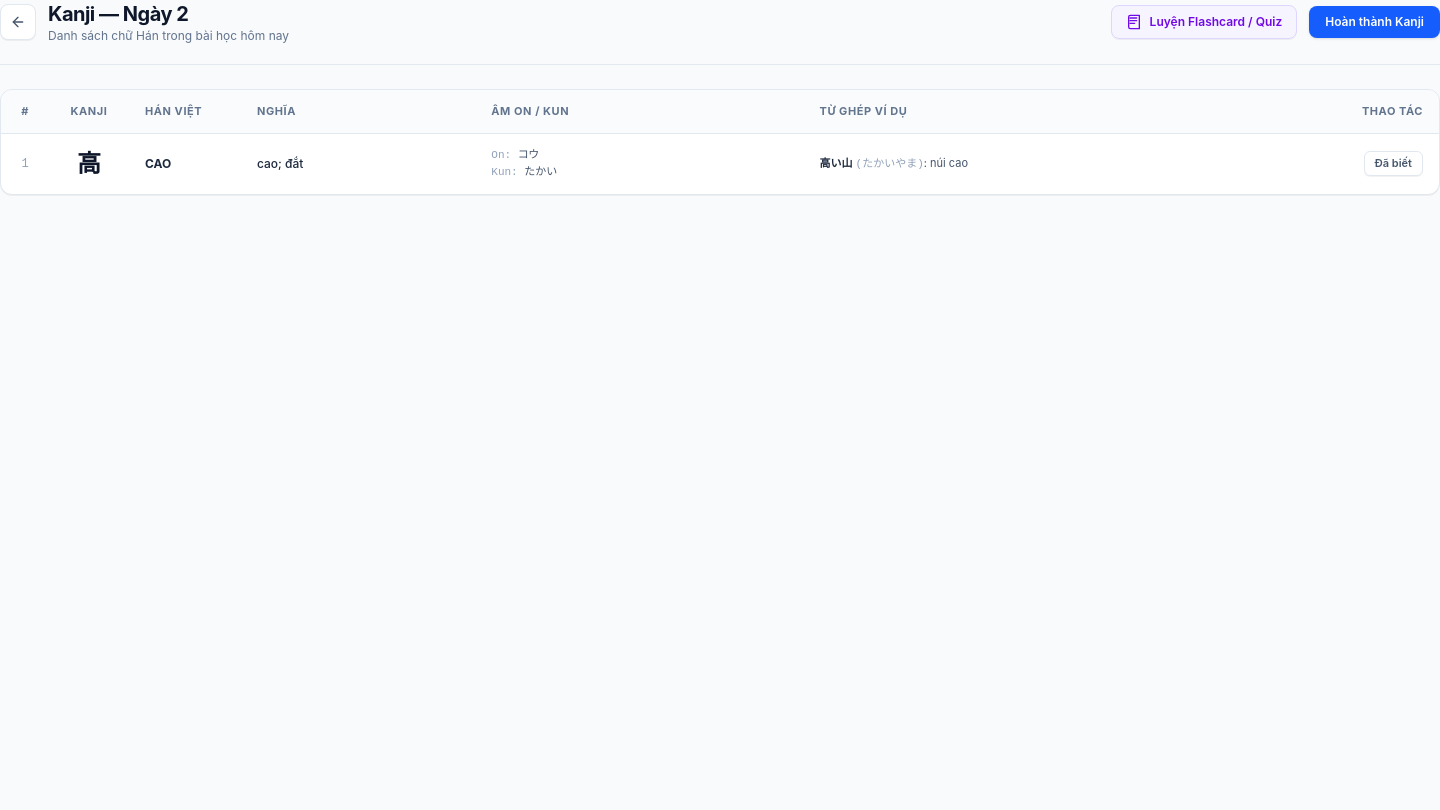
Scenario: Milestone F6 — Kanji Real Interaction Tests › shows the empty state when the final active Kanji is marked known
Click the button "Đã biết" at (1393, 164), box [1364,151,1423,176]
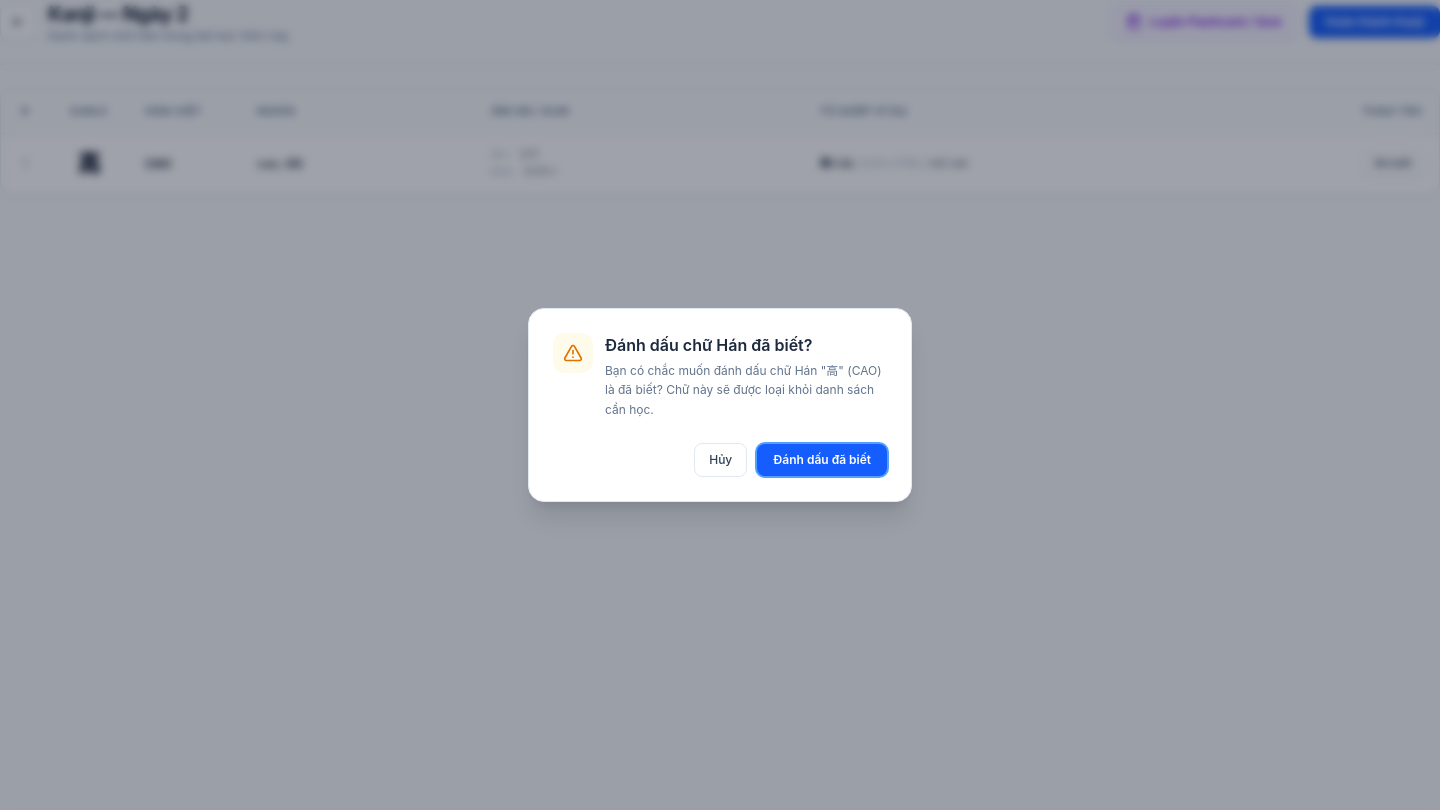
Click the button "Đánh dấu đã biết" at (822, 460), box [757,444,887,476]
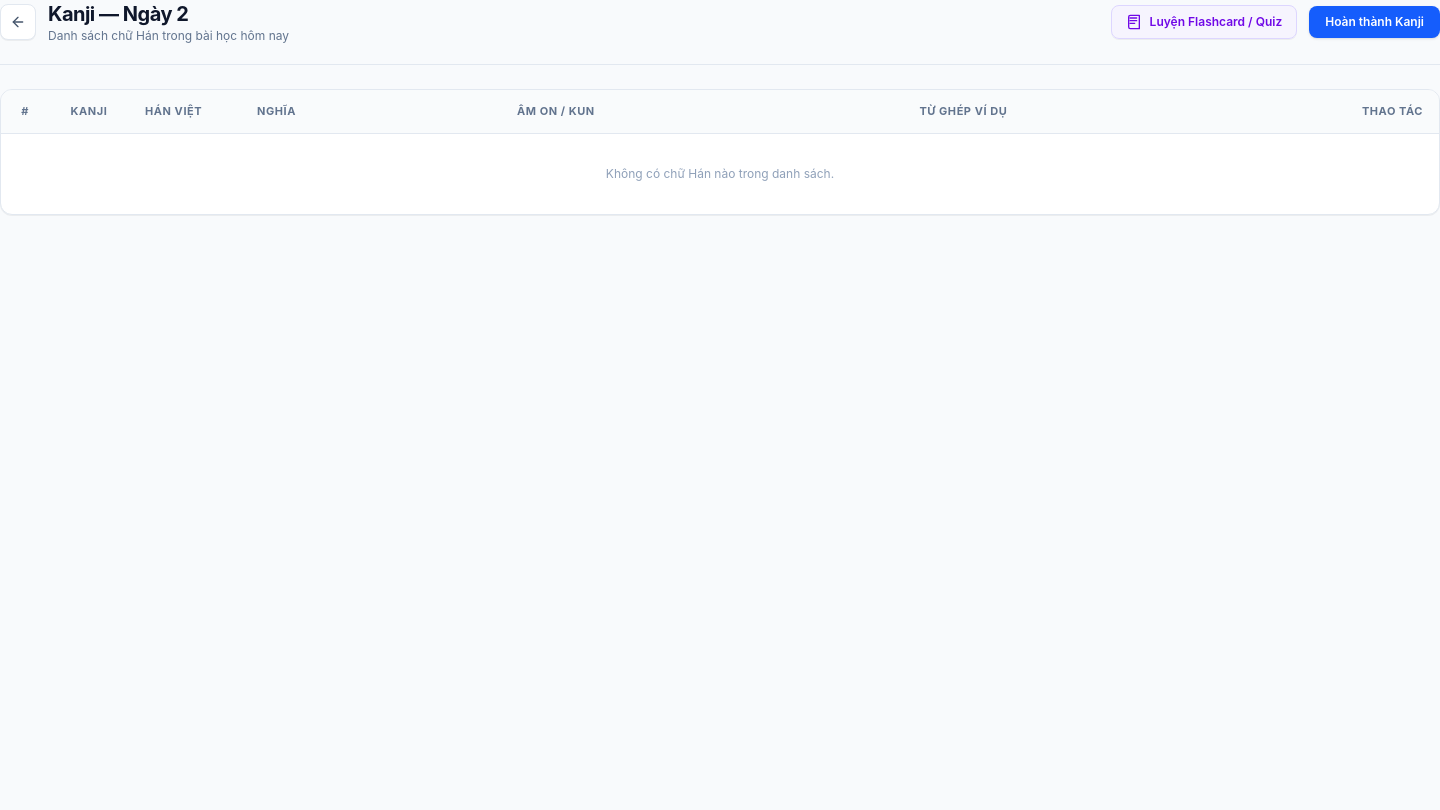
Expected: the row with test id "kanji-row-201" is gone
Expected: the text "Không có chữ Hán nào trong danh sách." is shown, [1,133,1439,214]
